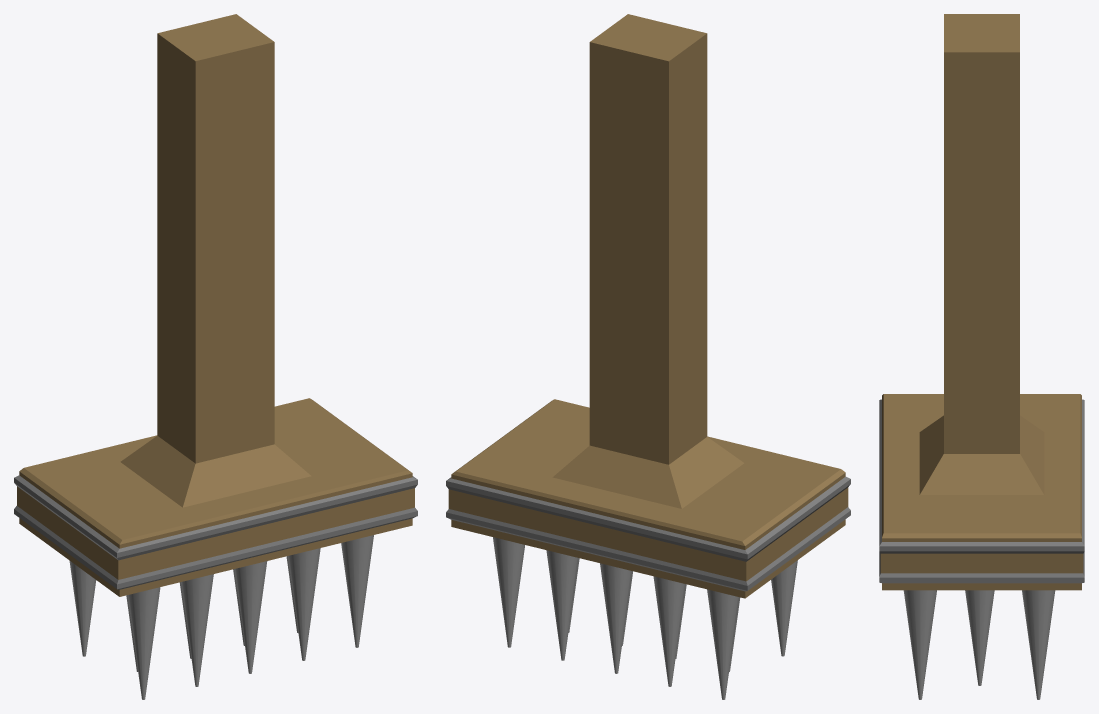
File: spikeArm.fbx
The picture shows the model from 3 angles, left to right: view 1: azimuth 30°, elevation 25°; view 2: azimuth 150°, elevation 25°; view 3: azimuth 270°, elevation 25°; orthographic projection.
Parts seen in each view (by area): view 1: Spike Arm; view 2: Spike Arm; view 3: Spike Arm.
Part boxes in pixels (left/top/right/bottom): Spike Arm: left=14, top=14, right=417, bottom=699; Spike Arm: left=446, top=14, right=850, bottom=699; Spike Arm: left=879, top=14, right=1084, bottom=699.
Bounding box in the file's own units: 226 × 134 × 440.
